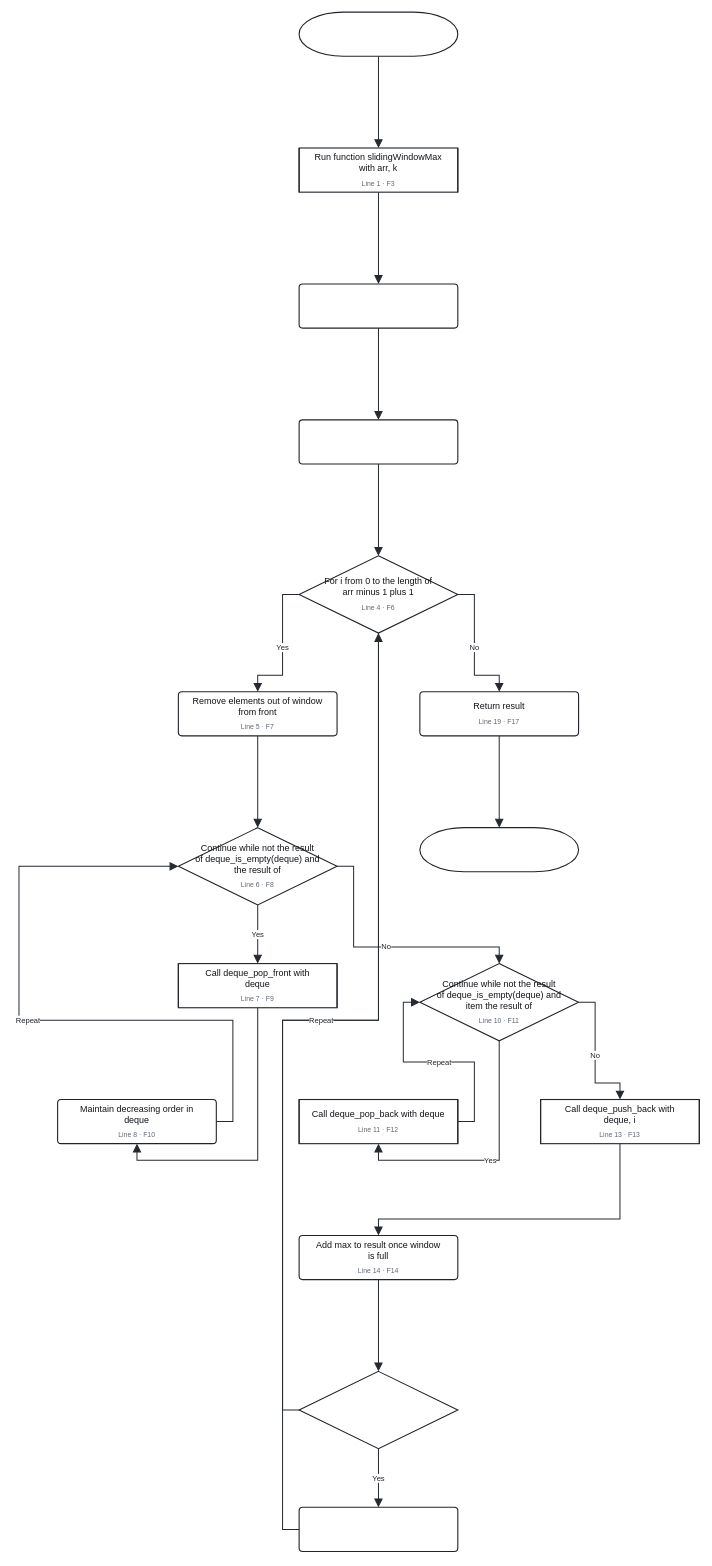
Image size: 712x1566. Some labels were removed from this diagram. The shapes that lost their labels are listed below. From the top down, each one's centre as x and y in pixels, then its label:
At [378,33]: "Start Line 1 · F1".
At [378,305]: "Set result to an empty list Line 2 · F4".
At [378,441]: "Set deque to the result of create_deque() Line 3 · F5".
At [499,849]: "End Line 1 · F2".
At [378,1409]: "I is greater than or equal to k minus 1? Line 15 · F15".
At [378,1529]: "Append item the result of deque_front(deque) of arr to result Line 16 · F16".
